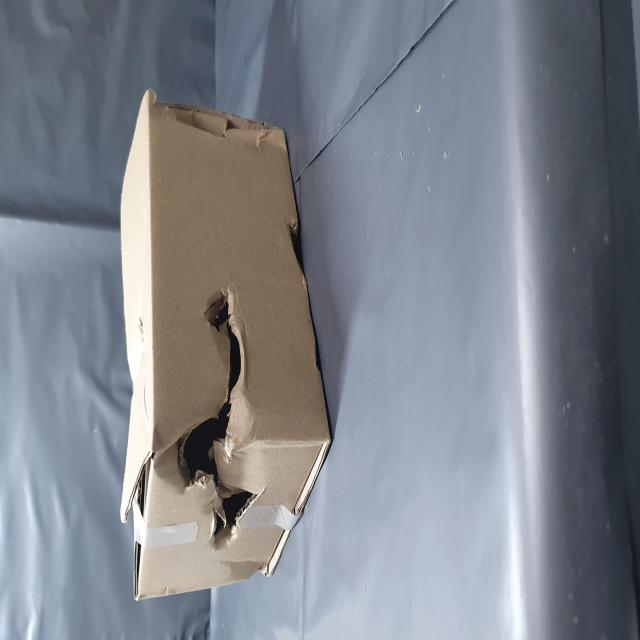damaged: (42, 313, 201, 487), (278, 313, 299, 459), (202, 502, 241, 548)
